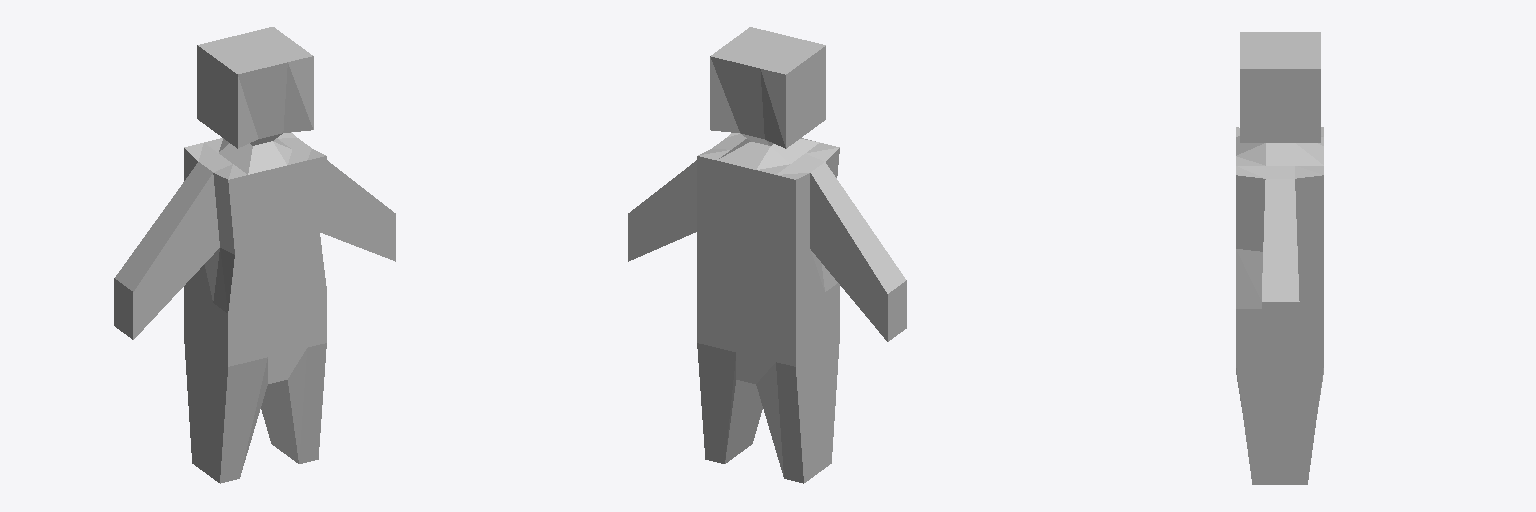
File: size_test.obj
3 views of the same model, side by side, from view 1: azimuth 30°, elevation 25°; view 2: azimuth 150°, elevation 25°; view 3: azimuth 270°, elevation 25° (orthographic).
Visible parts, largest first — view 1: size_test; view 2: size_test; view 3: size_test.
Part boxes in pixels (bbox=[...]): size_test: bbox=[114, 27, 395, 483]; size_test: bbox=[628, 27, 906, 483]; size_test: bbox=[1236, 32, 1323, 484].
Size of the model in its own units: 84.66 by 127 by 24.86.